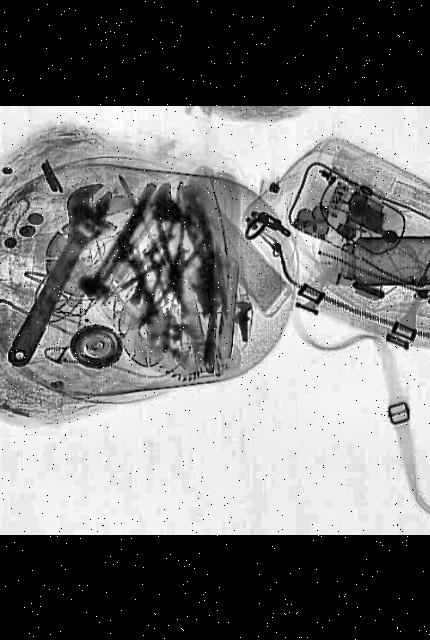Wrench: (0, 176, 126, 371)
